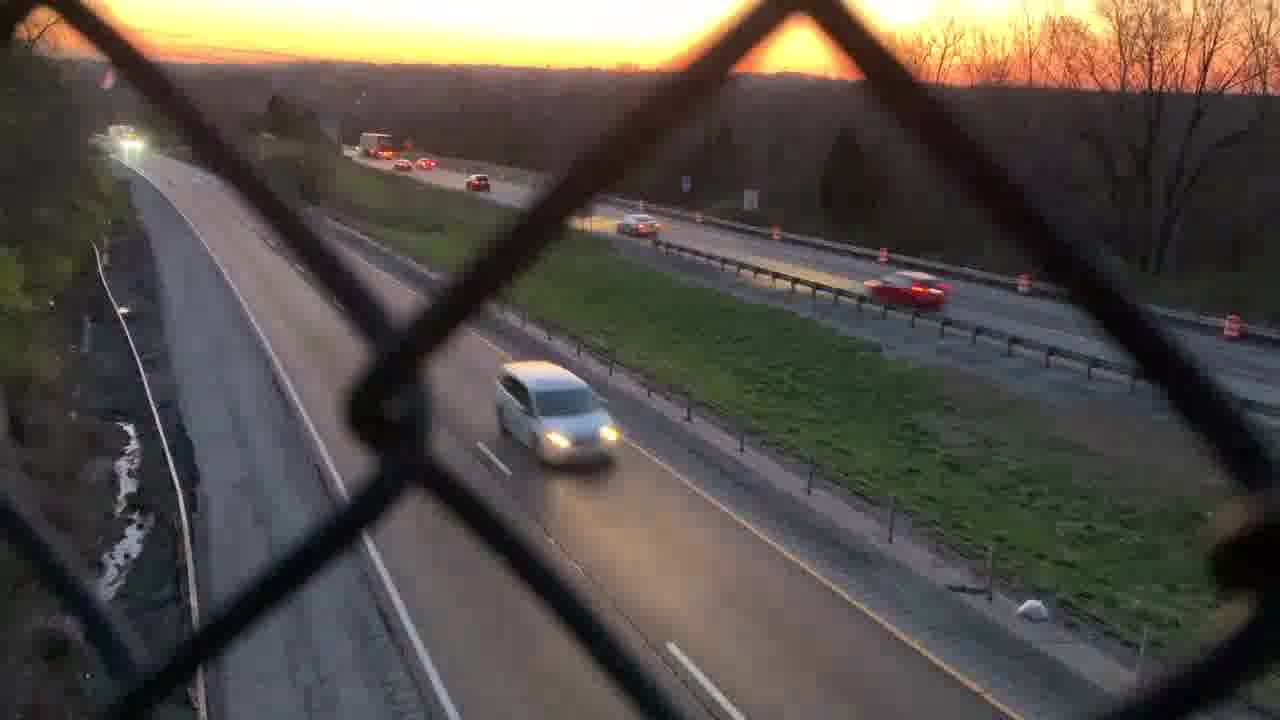heavyTruck: (357, 128, 399, 153)
largeCar: (492, 357, 629, 467)
smallCar: (862, 273, 957, 308), (616, 213, 666, 242)
